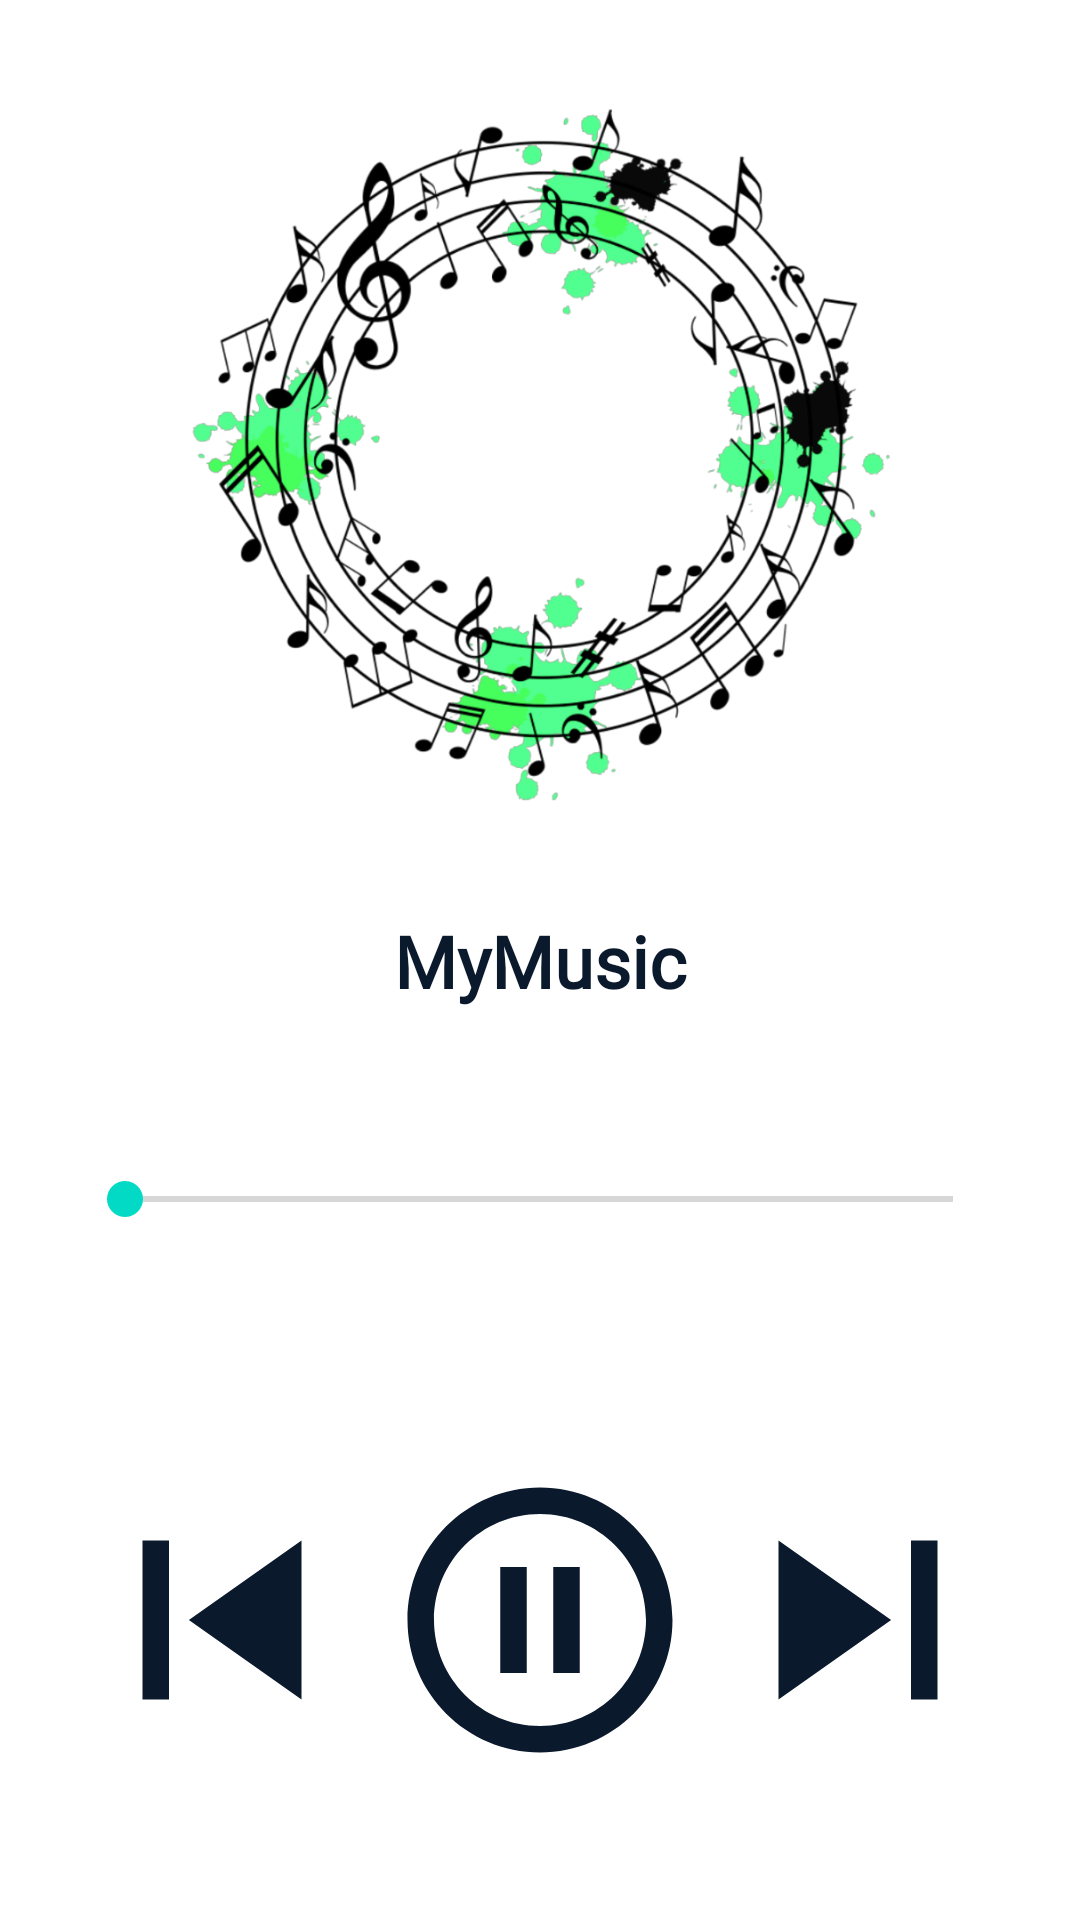

Icons on this 1080w x 1920h Android screen, each with the point to tap as [x,y]:
next: [858,1620]
pause: [540,1620]
previous: [222,1620]
